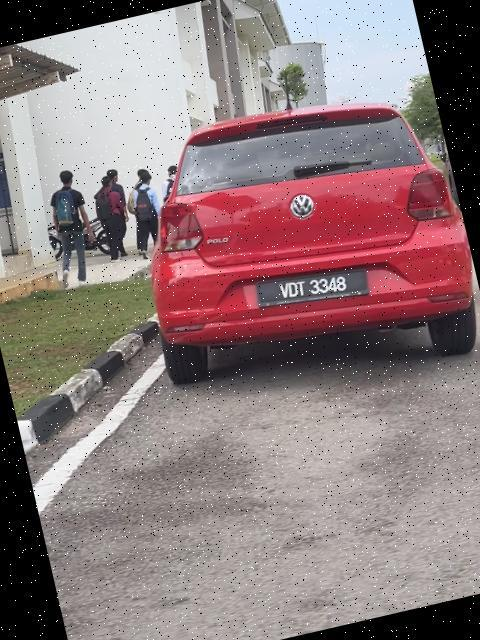License_Plate: (253, 253, 374, 320)
VDT3348: (253, 253, 374, 320)
car: (109, 70, 480, 420)
